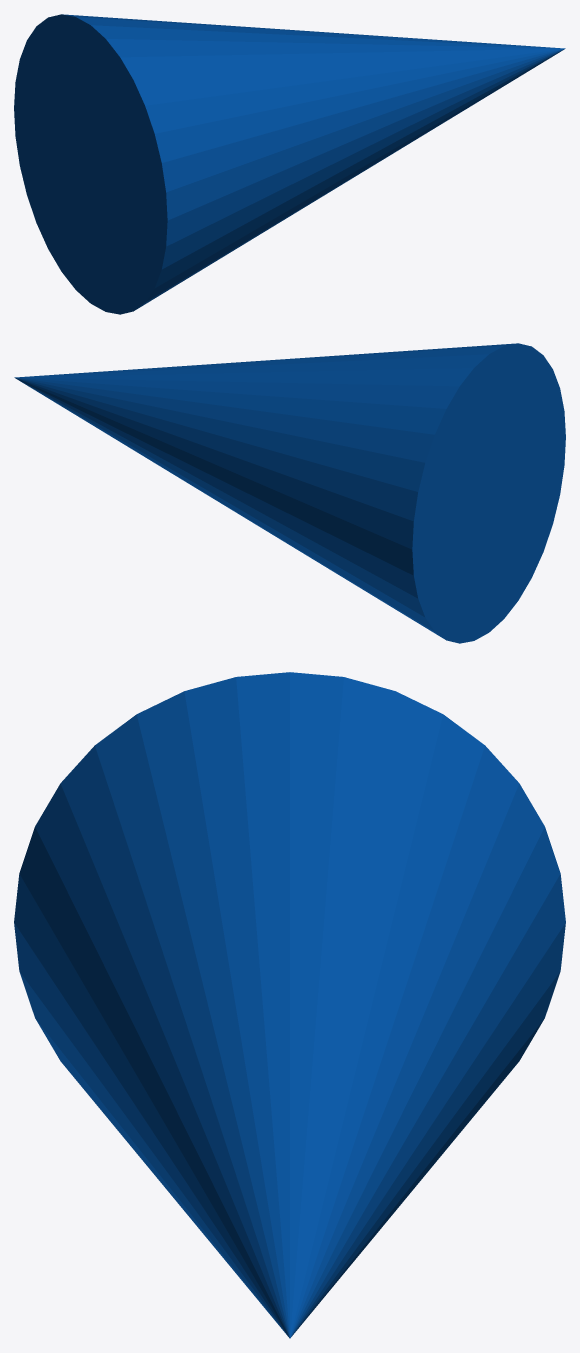
Rendered from Plasma.obj.
3 views of the same model, one above another, from view 1: azimuth 30°, elevation 25°; view 2: azimuth 150°, elevation 25°; view 3: azimuth 270°, elevation 25° (orthographic). The views are drawn at different scales.
Parts seen in each view (by area): view 1: Cone_PlasmaAzul; view 2: Cone_PlasmaAzul; view 3: Cone_PlasmaAzul.
Part boxes in pixels (bbox=[...]): Cone_PlasmaAzul: bbox=[14, 14, 565, 314]; Cone_PlasmaAzul: bbox=[14, 343, 565, 643]; Cone_PlasmaAzul: bbox=[14, 672, 565, 1338].
Bounding box in the file's own units: 10 × 5.6 × 5.6.
